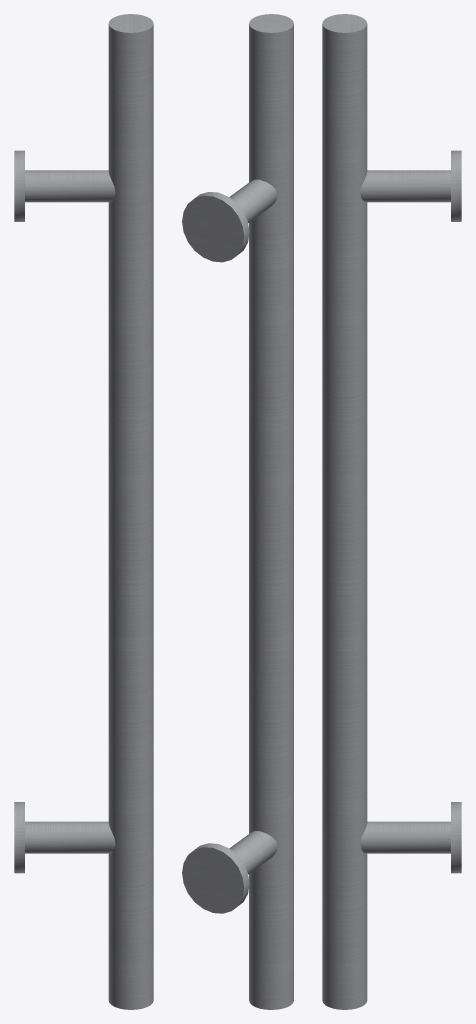
The model's file is DoorPullHandle.obj.
The picture shows the model from 3 angles, left to right: view 1: azimuth 90°, elevation 25°; view 2: azimuth 150°, elevation 25°; view 3: azimuth 270°, elevation 25°; orthographic projection.
Visible parts, largest first — view 1: Steel; view 2: Steel; view 3: Steel.
Part boxes in pixels (box(x1,y1,x2,y2)): Steel: box(14, 14, 153, 1009); Steel: box(182, 14, 293, 1009); Steel: box(322, 14, 461, 1009).
Bounding box in the file's own units: 0.04 × 0.6 × 0.0775.
Materials: 1 (1 with a texture image).
